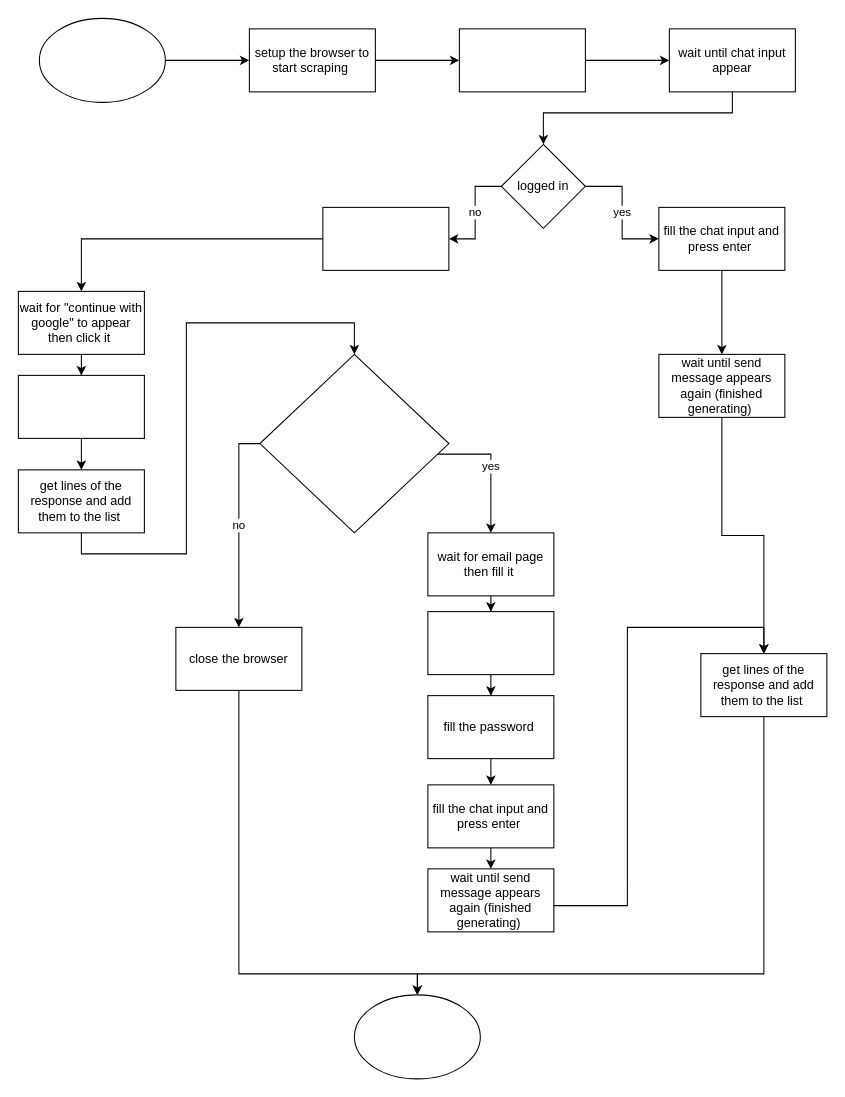
This 845x1097 diagram has some shape labels left out. The centre of each missing label's shape, as x and y in pixels:
click on log in: the point at 385,238
end: the point at 416,1036
error accured during waiting for the chat prompt: the point at 354,443
go to qwen website: the point at 521,60
sleep for 10 seconds: the point at 490,643
start: the point at 101,59
wait for the chat input to appear then fill it with the prompt: the point at 80,406
